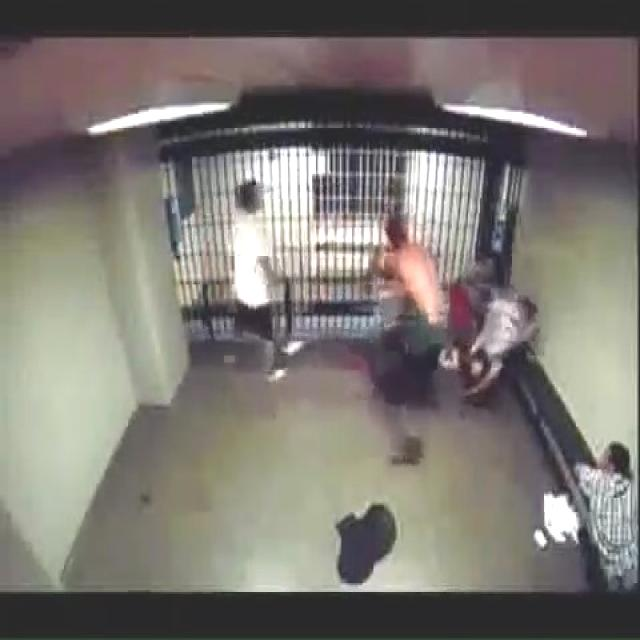fight: (364, 210, 450, 416)
